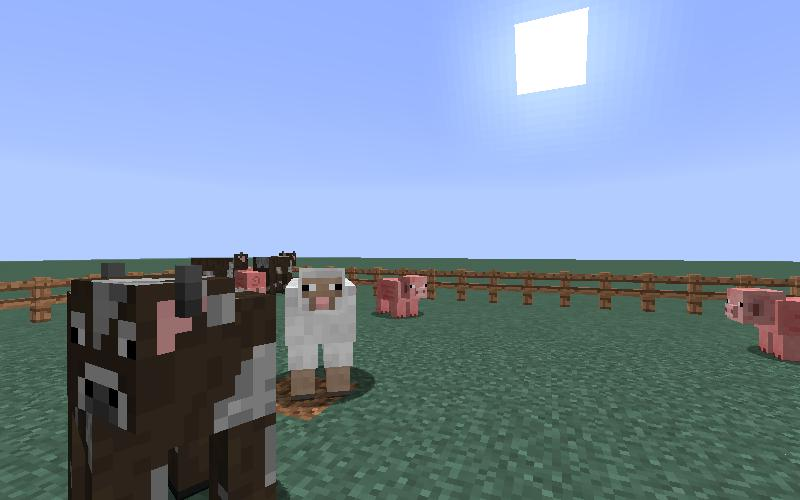cow: (53, 261, 280, 500), (253, 250, 297, 278)
pig: (718, 281, 800, 364), (371, 269, 430, 320)
sheep: (282, 266, 360, 413)
